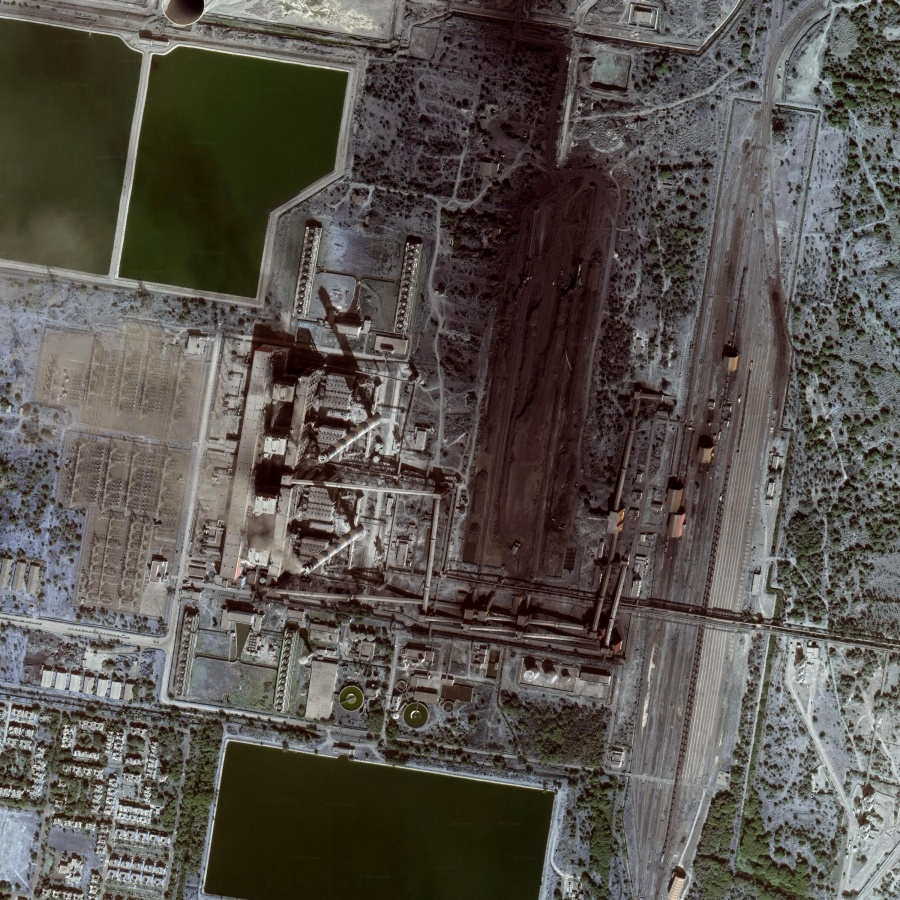PowerPlant: (230, 139, 673, 646)
